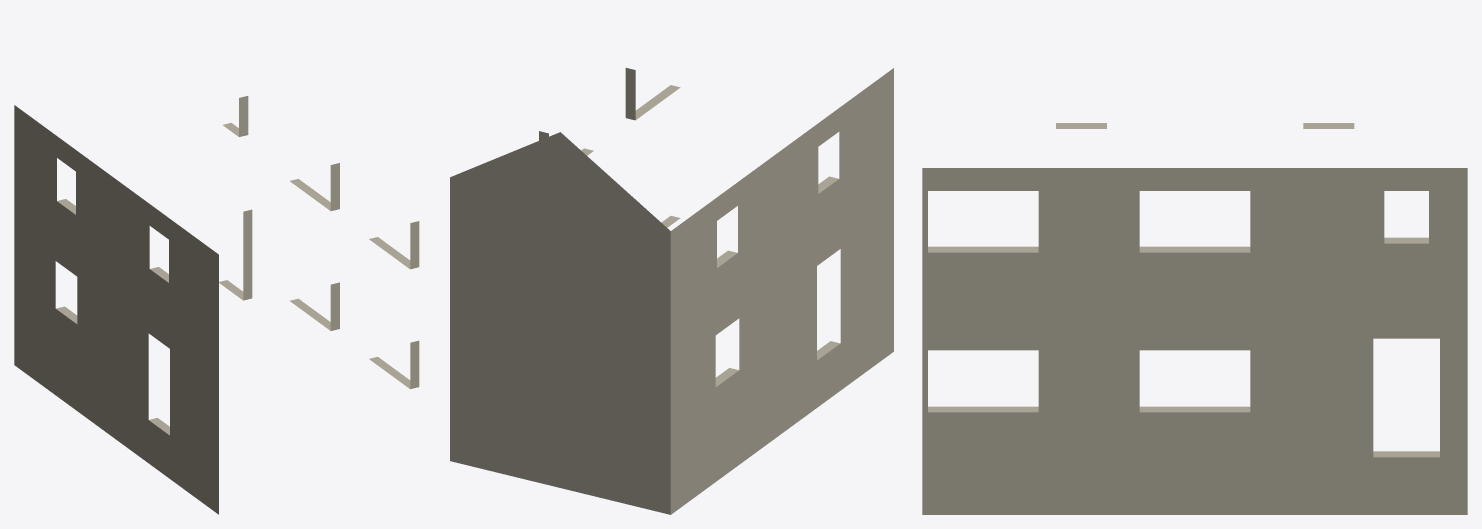
File: SM_Bld_034_Render.glb
3 renders of one model, left to right at view 1: azimuth 30°, elevation 25°; view 2: azimuth 150°, elevation 25°; view 3: azimuth 270°, elevation 25°, orthographic. The views are drawn at different scales.
Visible parts, largest first — view 1: SM_Bld_034_Render; view 2: SM_Bld_034_Render; view 3: SM_Bld_034_Render.
Part boxes in pixels (<box>): SM_Bld_034_Render: <box>14,96,419,514</box>; SM_Bld_034_Render: <box>450,68,893,514</box>; SM_Bld_034_Render: <box>922,123,1467,514</box>.
Size of the model in its own units: 4.88 by 7.53 by 8.55.
